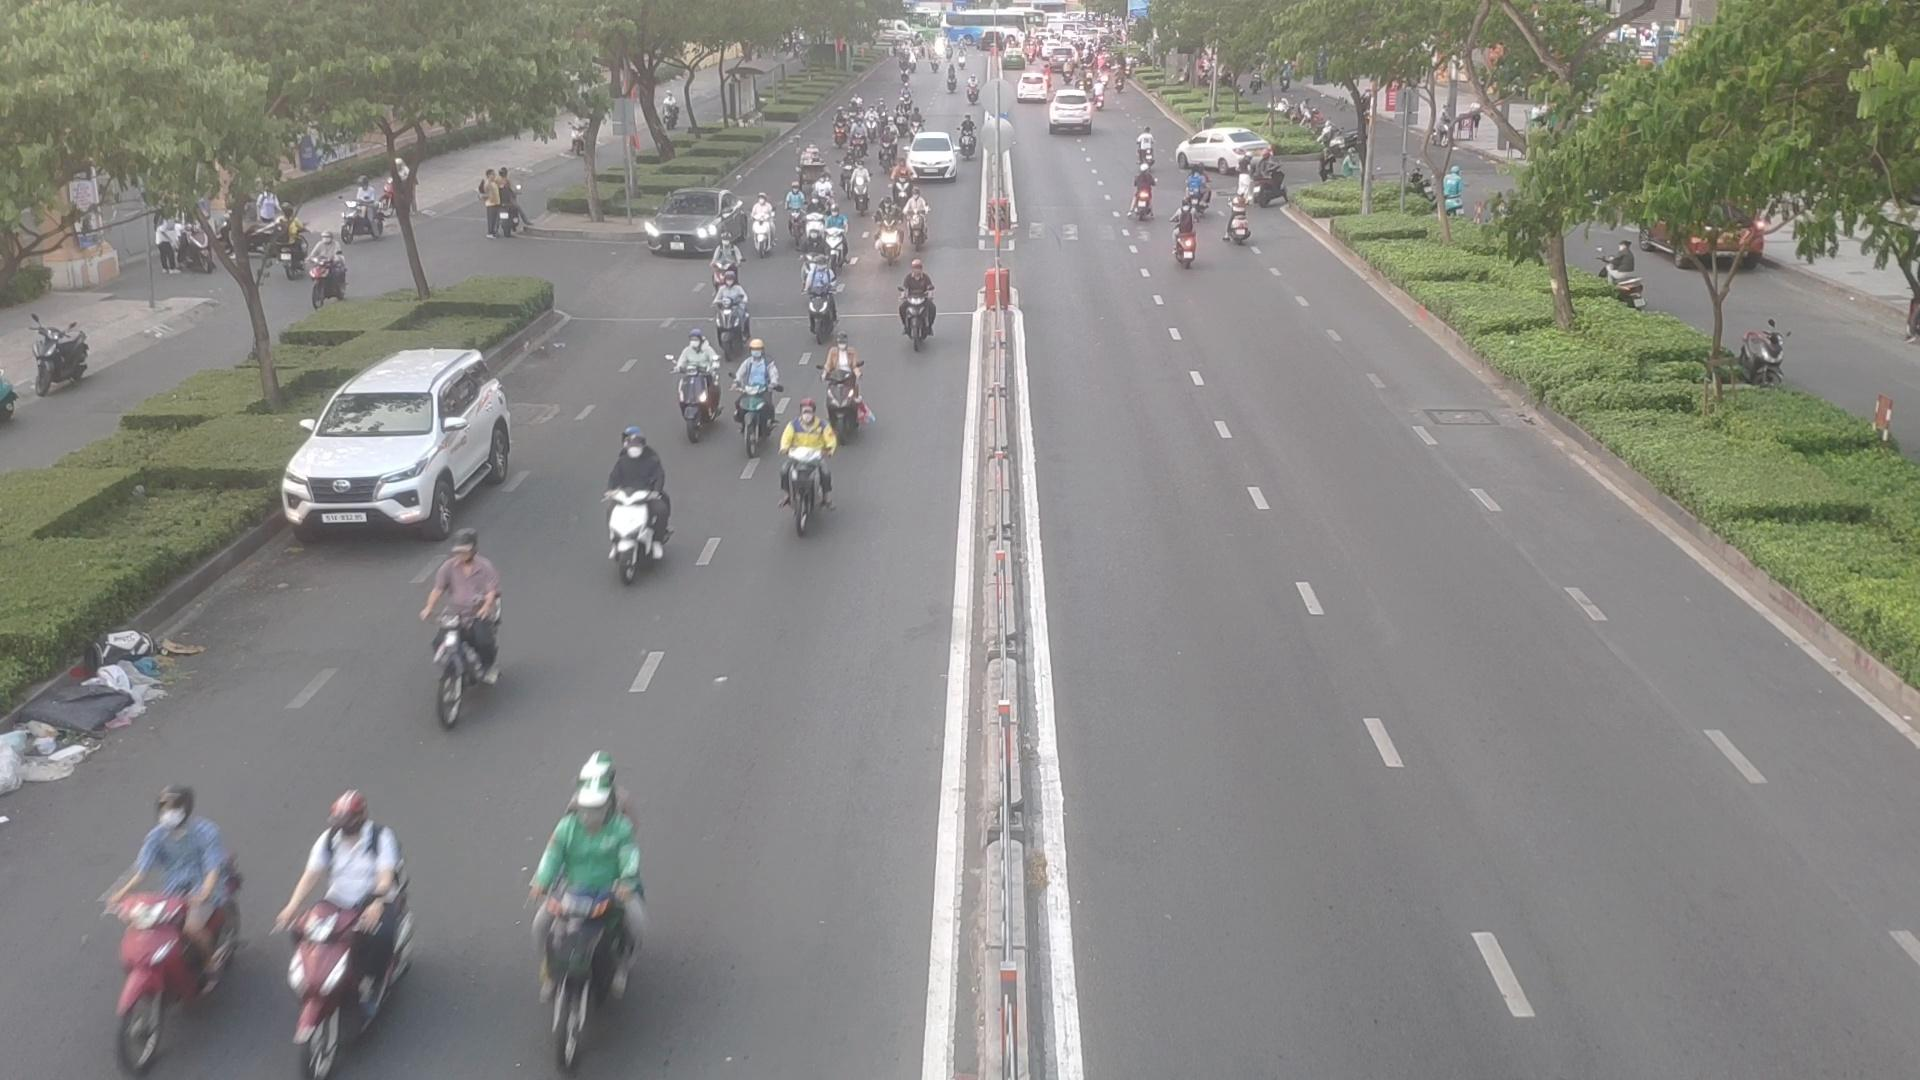car: (280, 345, 520, 539), (646, 191, 753, 258), (1180, 131, 1278, 171), (906, 132, 963, 179)
motorbike: (65, 789, 243, 1063), (287, 781, 404, 1073), (545, 766, 630, 1044), (415, 522, 496, 712), (611, 433, 680, 592), (786, 407, 829, 533), (729, 342, 773, 454), (671, 334, 709, 425), (802, 255, 839, 339), (825, 339, 858, 433), (899, 265, 934, 347), (712, 274, 749, 345), (1170, 200, 1195, 266), (878, 198, 902, 262), (906, 193, 928, 253), (851, 164, 876, 216), (1226, 195, 1251, 248), (752, 198, 774, 256), (822, 212, 845, 261), (1133, 167, 1155, 218), (1183, 169, 1208, 214), (786, 185, 804, 240), (804, 196, 824, 245), (709, 231, 731, 276), (1137, 131, 1158, 174), (839, 156, 857, 196), (957, 120, 975, 156), (887, 160, 903, 196), (849, 123, 866, 156), (881, 129, 894, 171)
